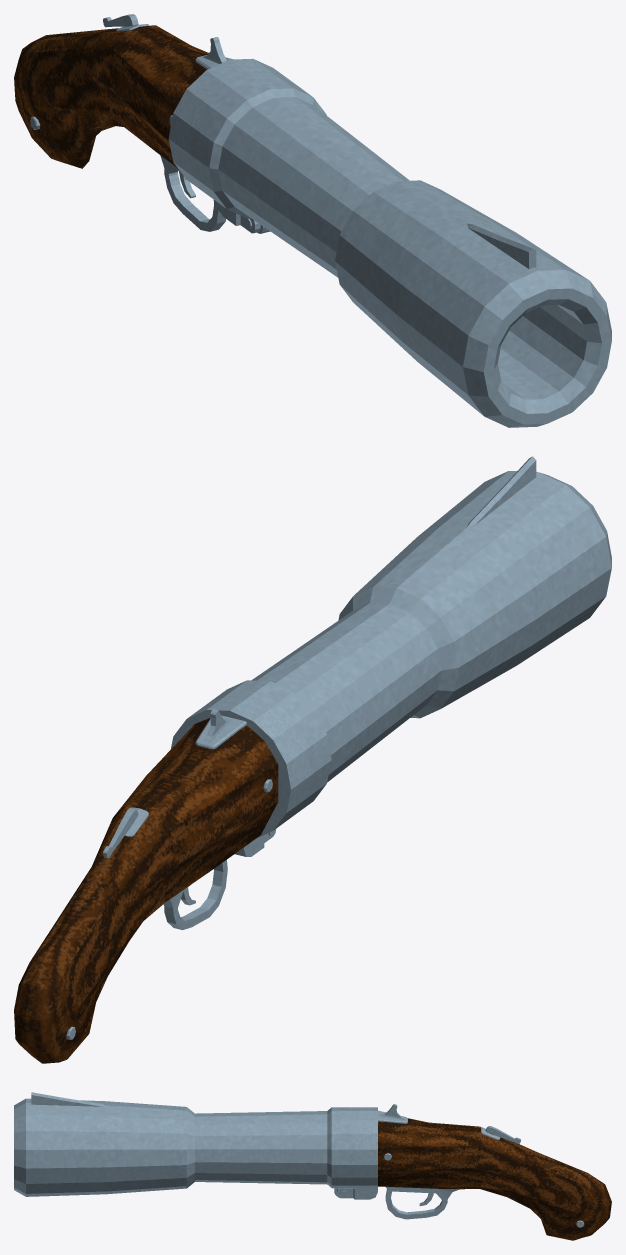
File: GrenadeLauncher.fbx
The picture shows the model from 3 angles, top to bottom: view 1: azimuth 30°, elevation 25°; view 2: azimuth 150°, elevation 25°; view 3: azimuth 270°, elevation 25°; orthographic projection. The views are drawn at different scales.
Parts seen in each view (by area): view 1: Barrel, Handle; view 2: Barrel, Handle; view 3: Barrel, Handle.
Boxes of the visible parts, box(x1,y1,x2,y2) form: Barrel: box(189, 73, 611, 427); Handle: box(14, 14, 291, 233); Barrel: box(207, 456, 611, 815); Handle: box(14, 695, 311, 1063); Barrel: box(14, 1092, 354, 1196); Handle: box(337, 1104, 611, 1240).
Bounding box in the file's own units: 48.22 × 80.3 × 293.
Materials: 4 (4 with a texture image).
